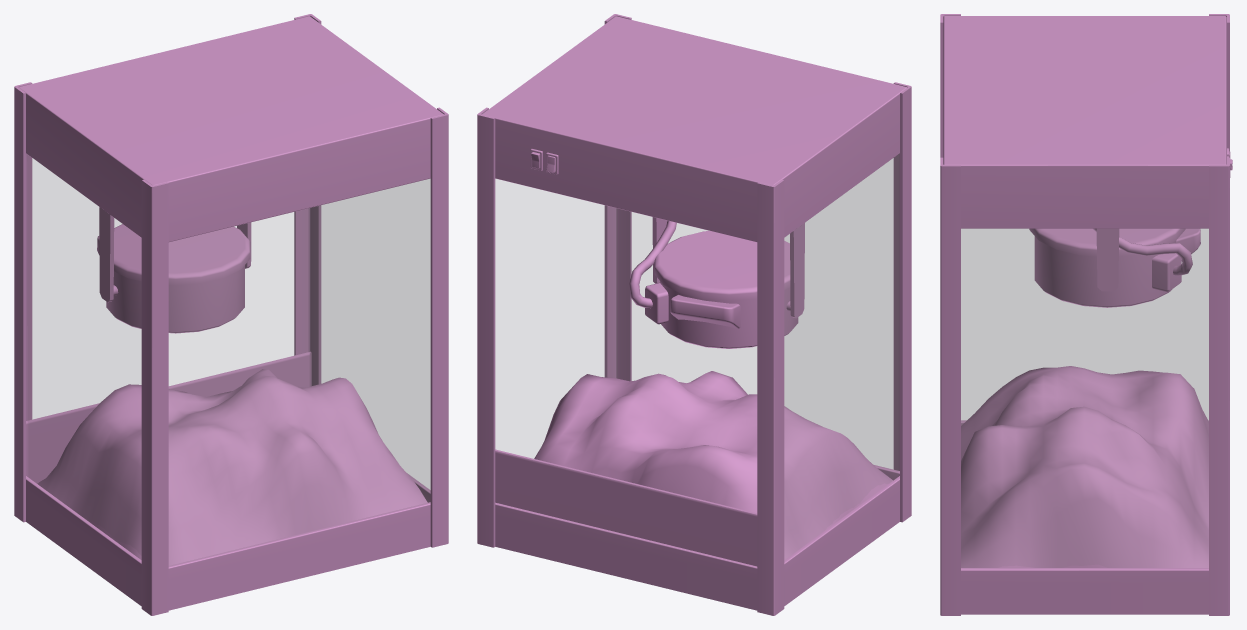
File: PopcornMachine.FBX
3 renders of one model, left to right at view 1: azimuth 30°, elevation 25°; view 2: azimuth 150°, elevation 25°; view 3: azimuth 270°, elevation 25°, orthographic. The views are drawn at different scales.
Visible parts, largest first — view 1: Object001; view 2: Object001; view 3: Object001.
Part boxes in pixels (x1,y1,x2,y2): Object001: (14,14,448,615); Object001: (477,14,911,615); Object001: (940,14,1232,615).
Size of the model in its own units: 50.85 by 70 by 41.24.
